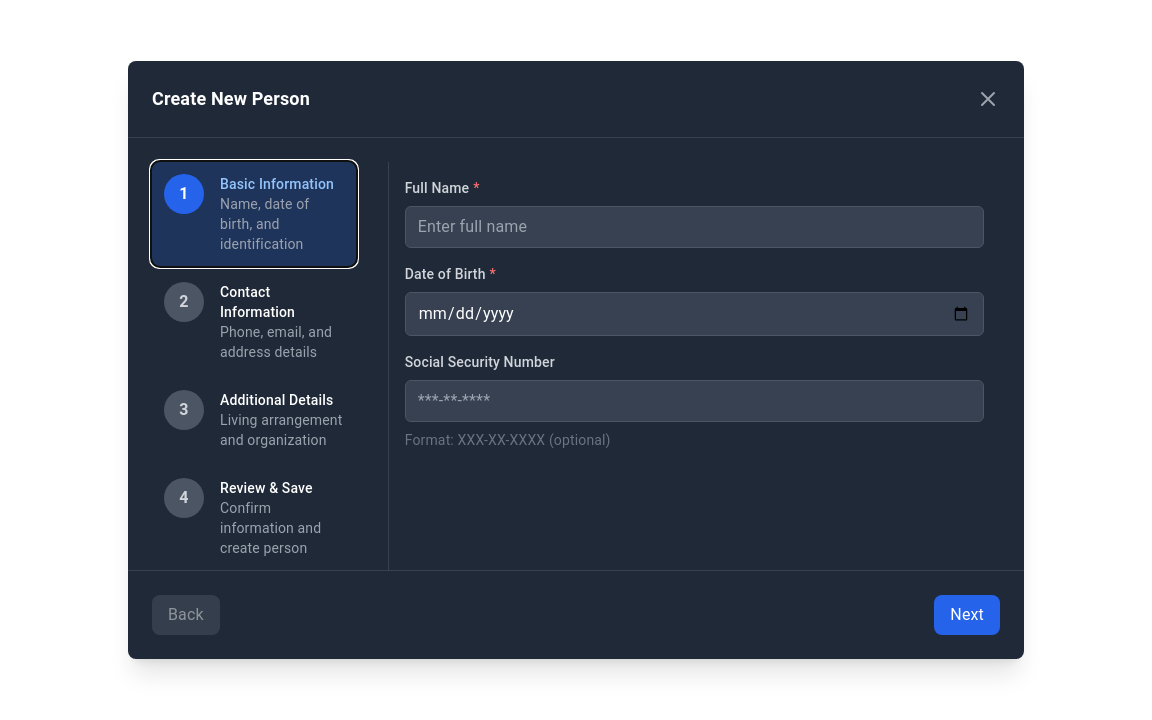
it: PersonCreationModal (business) › validation: cannot advance without required fields
Click the button "Next". click: [967, 615]
box: [934,595,1000,635]
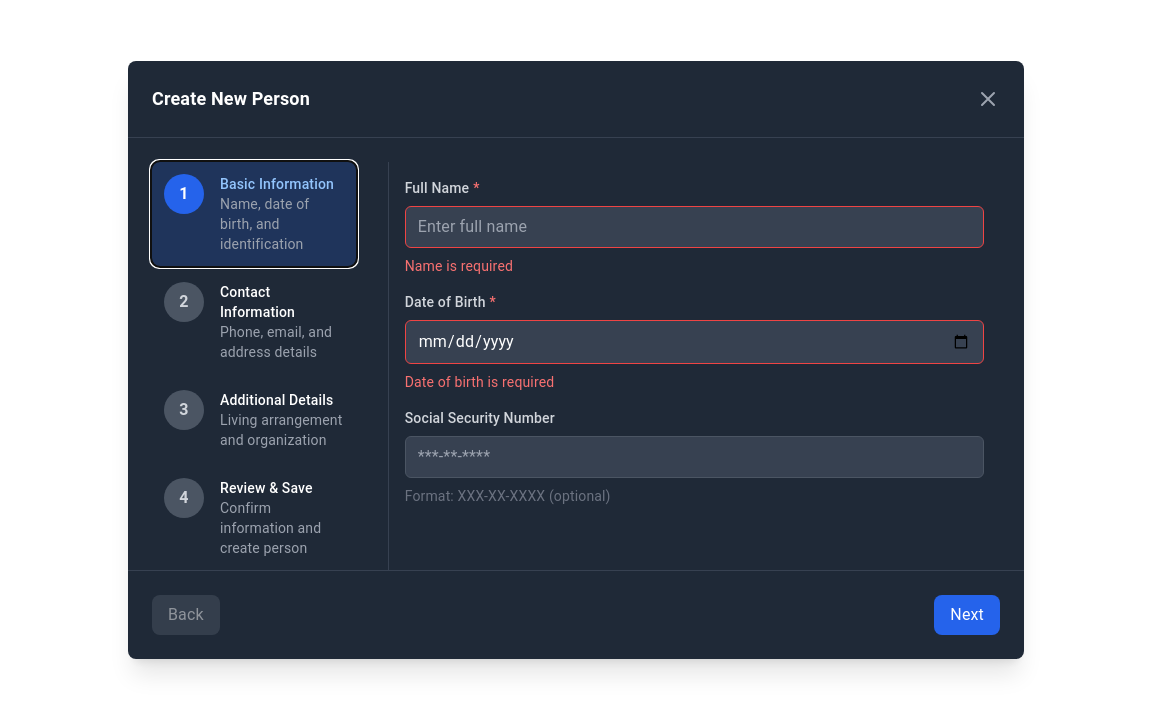
Expected: the heading "Basic Information" is shown, [220,174,344,194]
Expected: the text "Name is required" is shown, [405,258,513,274]
Expected: the text "Date of birth is required" is shown, [405,374,554,390]
